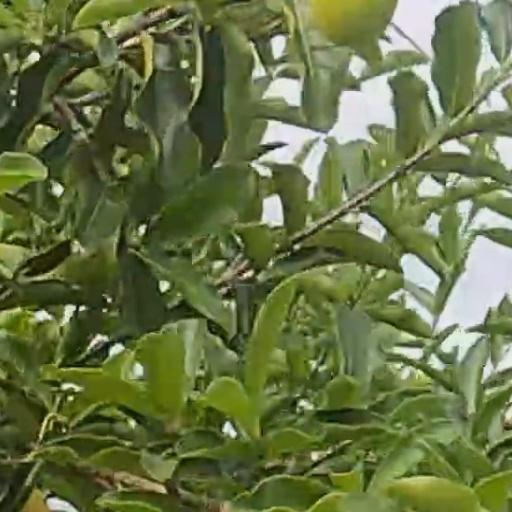acerola_verde: (314, 1, 395, 40)
